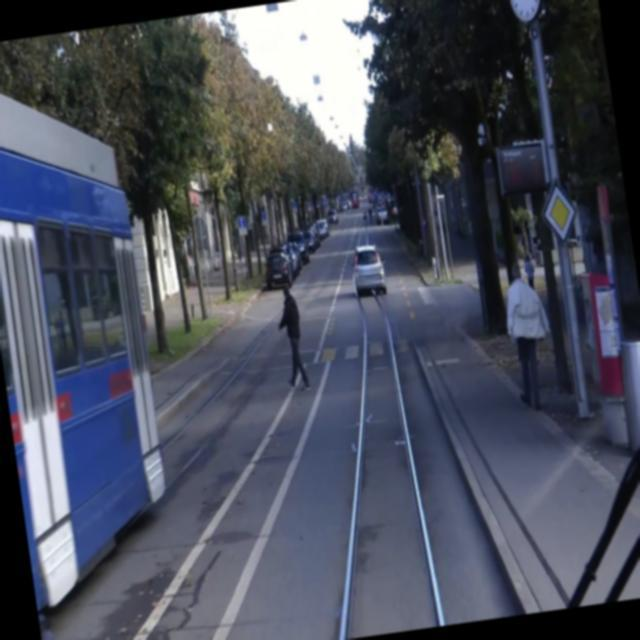danger: (346, 242, 386, 294)
rail: (289, 202, 485, 638)
